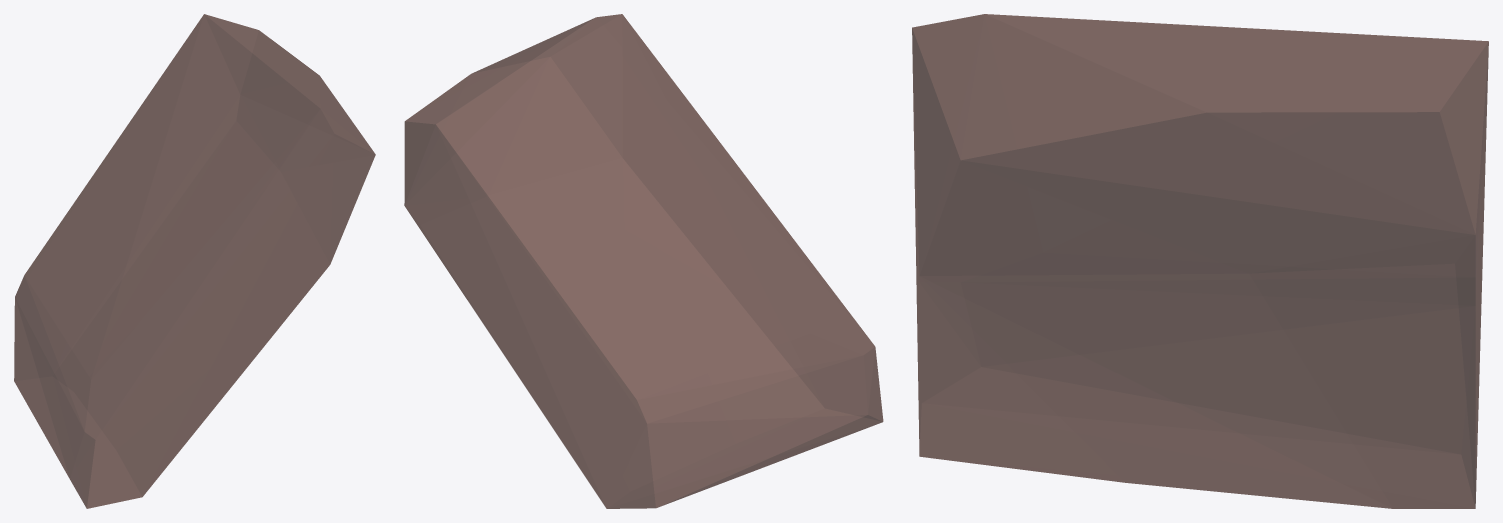
3 views of the same model, side by side, from view 1: azimuth 30°, elevation 25°; view 2: azimuth 150°, elevation 25°; view 3: azimuth 270°, elevation 25° (orthographic). The views are drawn at different scales.
Visible parts, largest first — view 1: Shape_IndexedFaceSet.084_Shape_IndexedFaceSet.9131; view 2: Shape_IndexedFaceSet.084_Shape_IndexedFaceSet.9131; view 3: Shape_IndexedFaceSet.084_Shape_IndexedFaceSet.9131.
Boxes of the visible parts, bbox=[...] form: Shape_IndexedFaceSet.084_Shape_IndexedFaceSet.9131: bbox=[14, 14, 375, 508]; Shape_IndexedFaceSet.084_Shape_IndexedFaceSet.9131: bbox=[404, 14, 883, 508]; Shape_IndexedFaceSet.084_Shape_IndexedFaceSet.9131: bbox=[912, 14, 1488, 508].
Size of the model in its own units: 0.2151 by 0.2178 by 0.1826.
